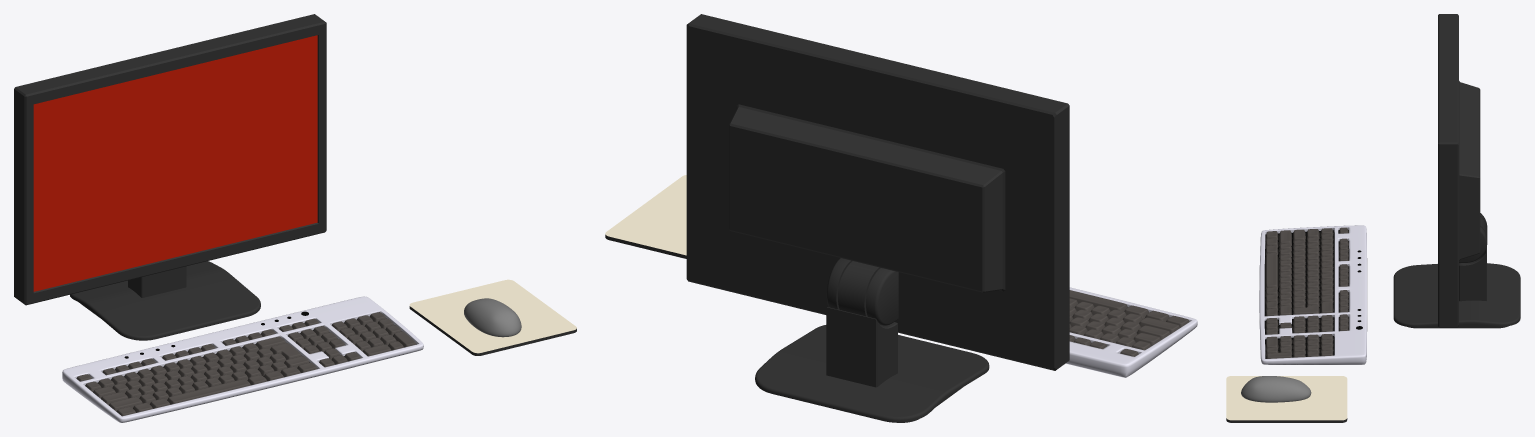
The model's file is DesktopSet.fbx.
3 views of the same model, side by side, from view 1: azimuth 30°, elevation 25°; view 2: azimuth 150°, elevation 25°; view 3: azimuth 270°, elevation 25° (orthographic). The views are drawn at different scales.
Visible parts, largest first — view 1: Monitor, Keyboard, Pad, Mouse; view 2: Monitor, Keyboard, Pad; view 3: Monitor, Keyboard, Pad, Mouse.
Boxes of the visible parts, x1,y1,x2,y2 form: Monitor: (14, 14, 326, 340); Keyboard: (62, 296, 423, 422); Pad: (409, 279, 576, 355); Mouse: (464, 298, 521, 337); Monitor: (686, 14, 1069, 422); Keyboard: (1066, 287, 1197, 377); Pad: (605, 175, 686, 258); Monitor: (1393, 14, 1520, 328); Keyboard: (1259, 225, 1367, 364); Pad: (1226, 376, 1347, 422); Mouse: (1241, 376, 1311, 402).
Bounding box in the file's own units: 29 × 19.08 × 16.
